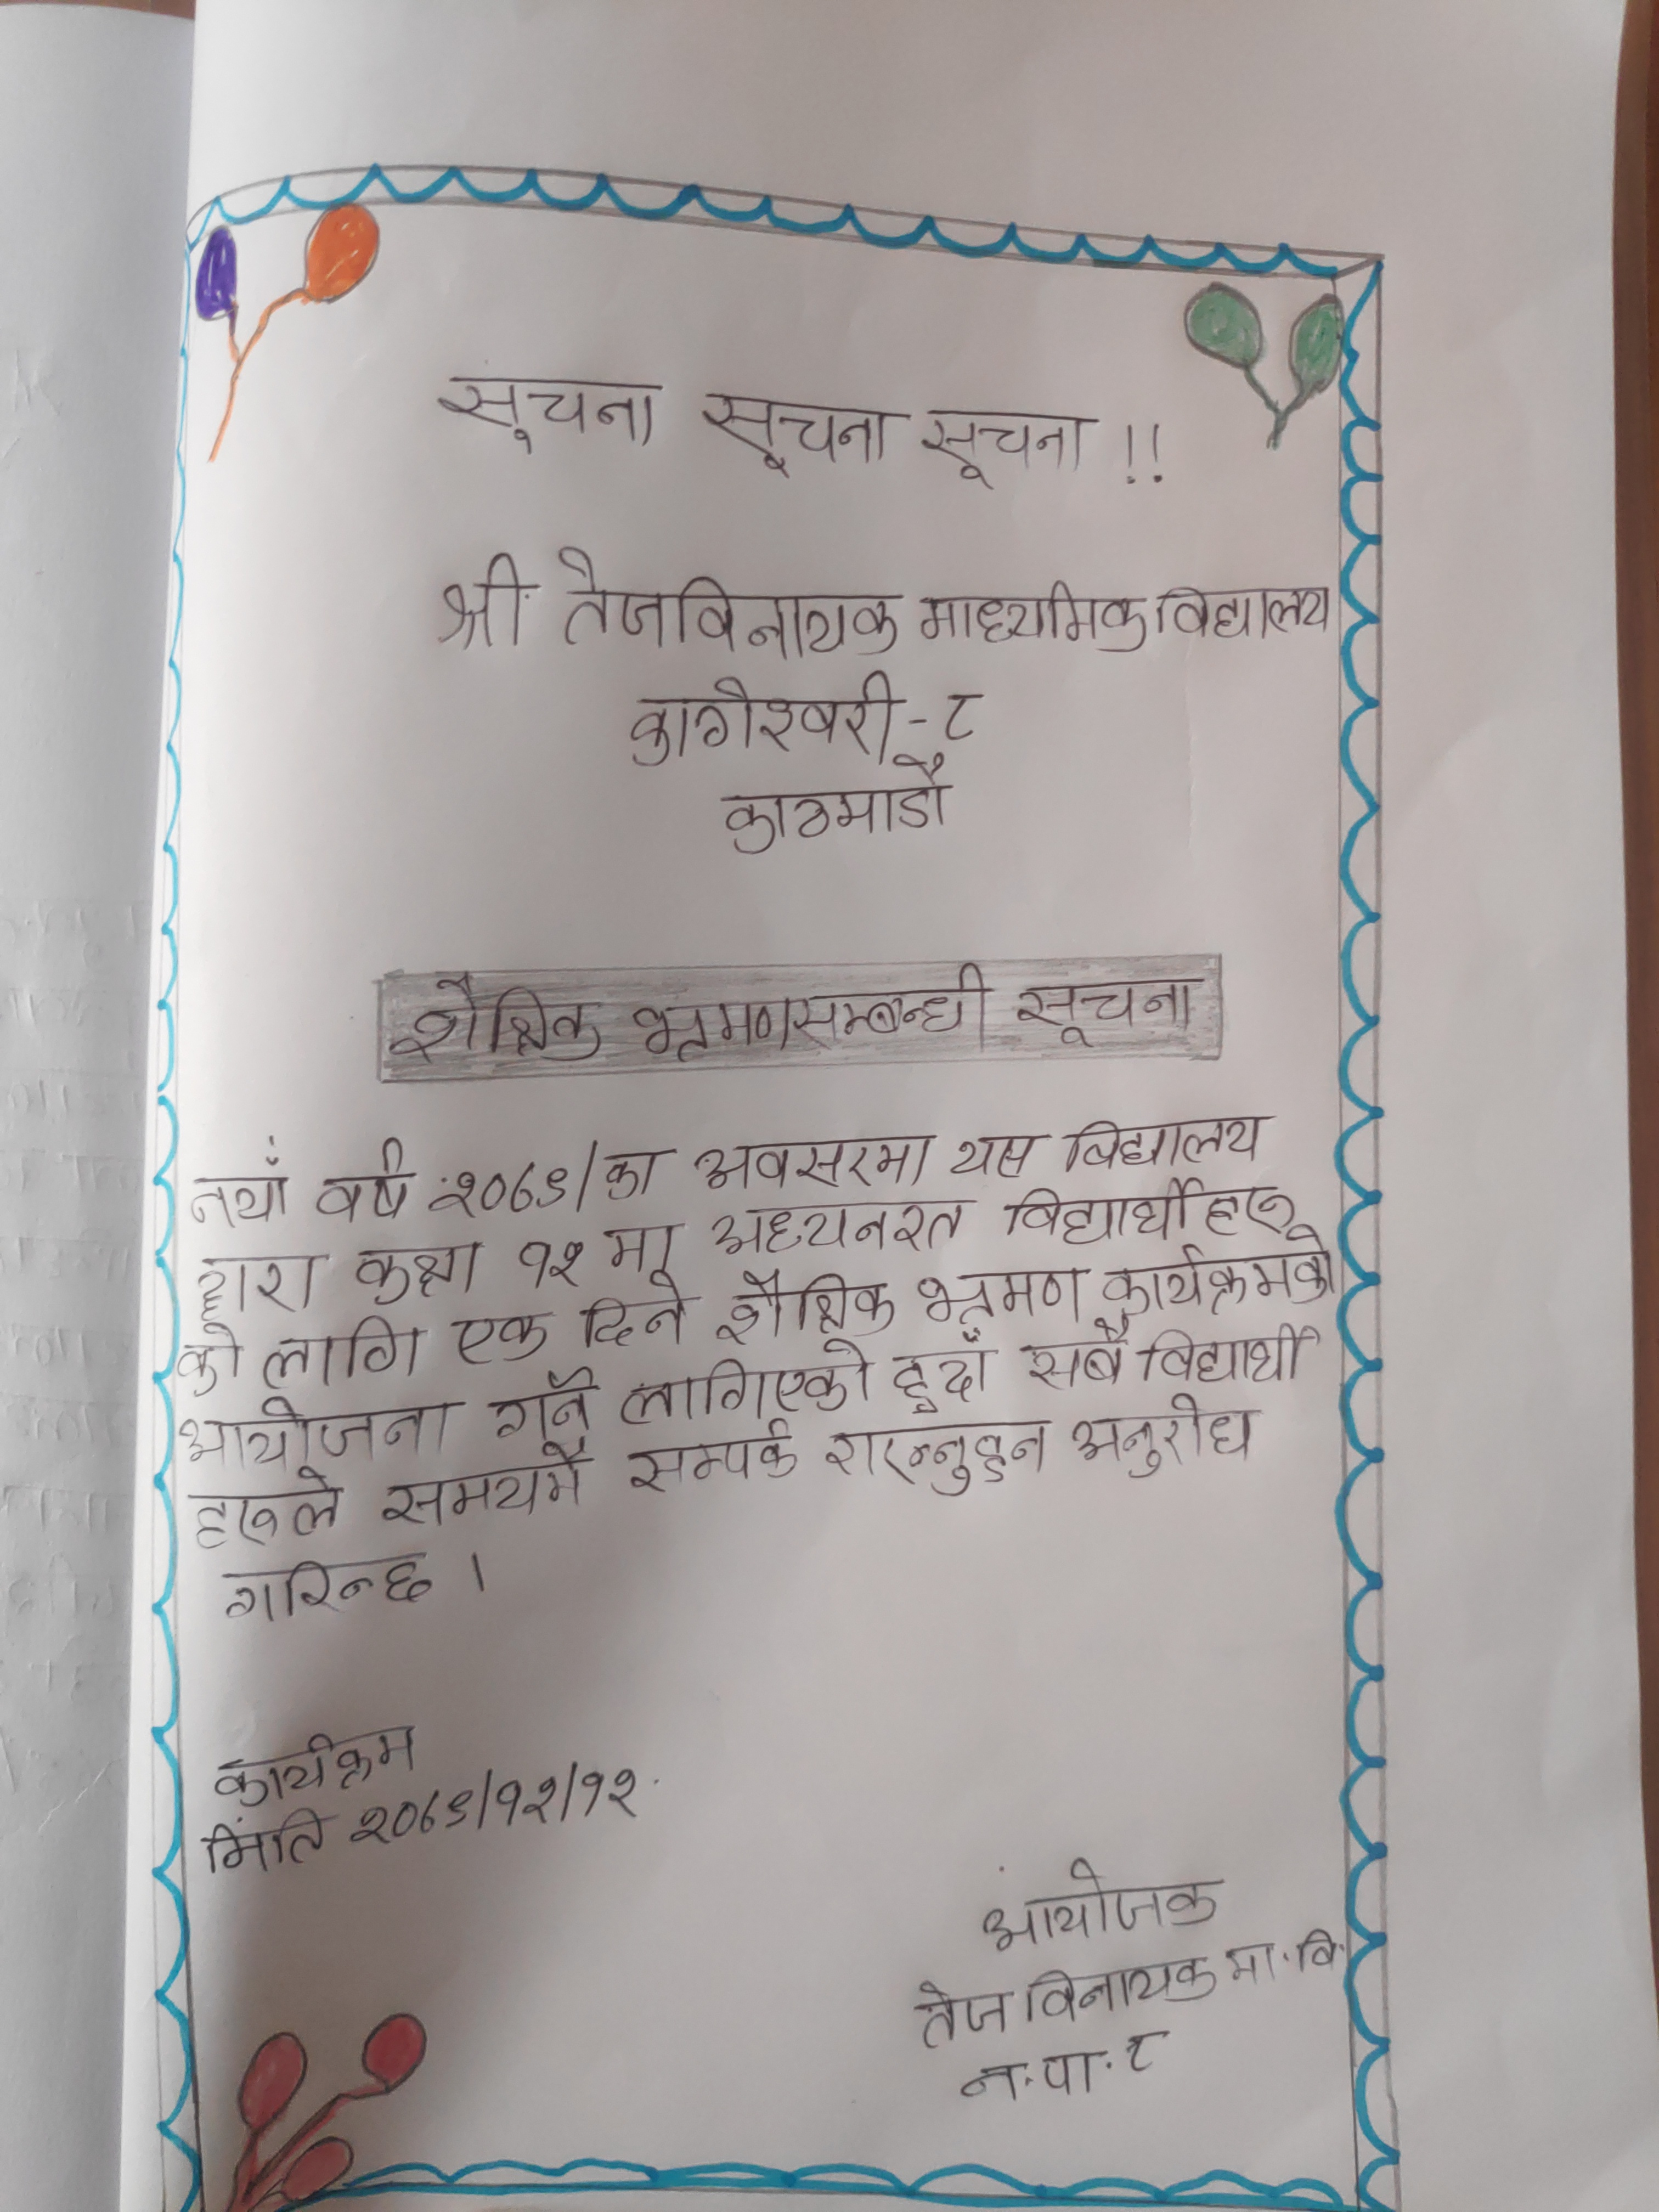text: (547, 531, 913, 658), (626, 967, 1007, 1059), (624, 669, 903, 765), (354, 1770, 647, 1850), (711, 761, 958, 855), (972, 1858, 1230, 1947), (387, 975, 613, 1076), (430, 369, 664, 465), (176, 1393, 464, 1468), (687, 385, 906, 481), (612, 1346, 885, 1420), (817, 1414, 1054, 1498), (378, 1444, 591, 1536), (1100, 1240, 1345, 1317), (918, 575, 1152, 655), (1065, 1393, 1270, 1479), (207, 1721, 416, 1804), (1004, 1181, 1297, 1238), (216, 1550, 441, 1623), (917, 401, 1101, 489), (711, 1191, 965, 1256), (690, 1129, 932, 1191), (622, 1418, 807, 1500), (706, 1261, 904, 1334), (1063, 1109, 1279, 1174), (1131, 1322, 1333, 1390), (1016, 979, 1204, 1050), (183, 1470, 347, 1550), (254, 1317, 429, 1392), (910, 1259, 1091, 1329), (1154, 583, 1337, 650), (1021, 1958, 1222, 2017), (432, 550, 538, 655), (179, 1139, 295, 1231), (884, 1324, 993, 1418), (183, 1249, 326, 1320), (345, 1237, 486, 1308), (425, 1155, 573, 1221), (202, 1806, 335, 1879), (579, 1273, 695, 1353), (483, 1366, 606, 1440), (901, 1968, 1014, 2048), (315, 1137, 416, 1224), (1014, 1322, 1131, 1395), (958, 2052, 1098, 2107), (1225, 1932, 1340, 1998), (443, 1308, 561, 1367), (169, 1322, 251, 1397), (1117, 2019, 1201, 2092), (943, 1127, 1042, 1184), (509, 1230, 589, 1296), (591, 1217, 678, 1273), (598, 1143, 674, 1202), (943, 685, 990, 747)
